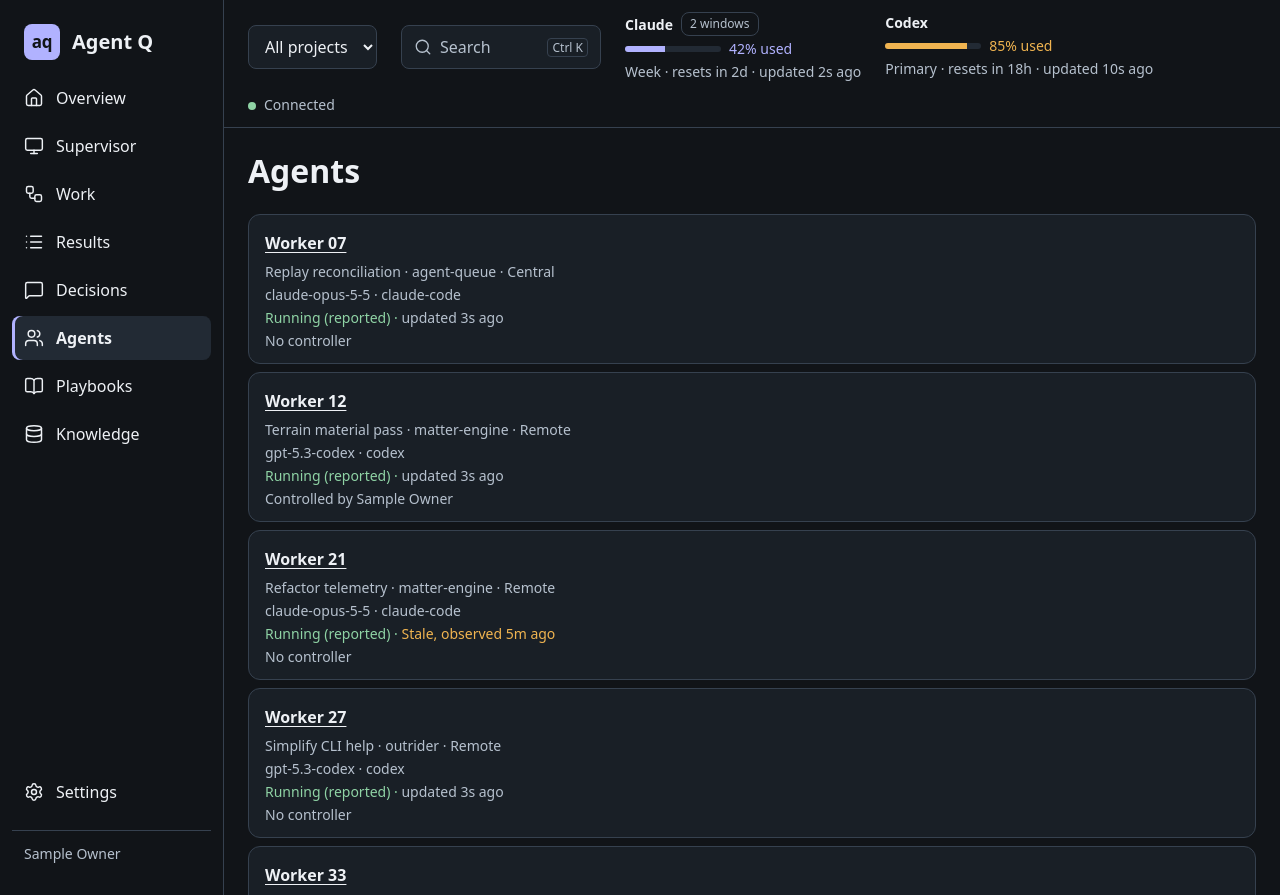
Test case: opening a session shows its metadata and an honest terminal placeholder
Click the link "Worker 07" at (306, 243), box left=265, top=227, right=346, bottom=259
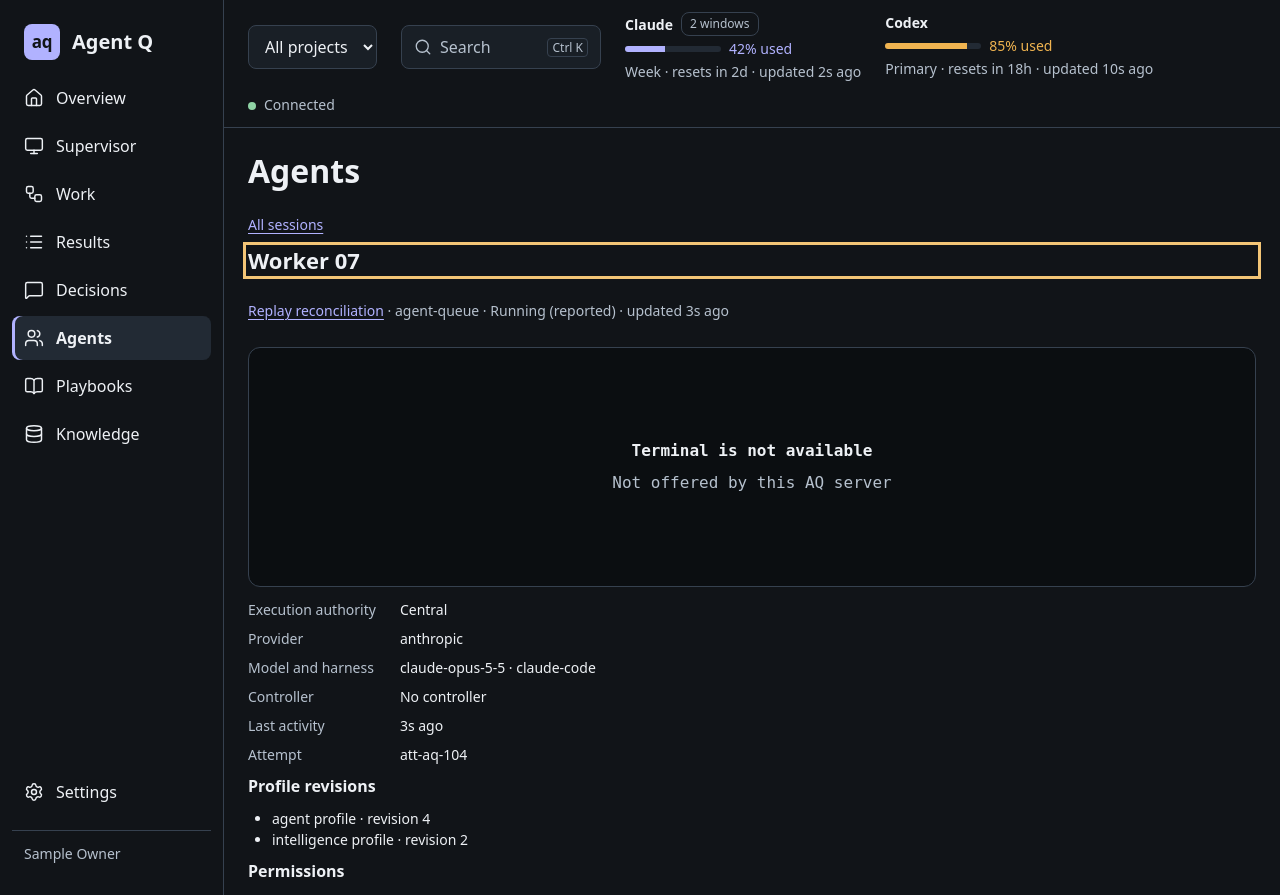
Expected: the text "Terminal is not available" is shown, left=612, top=439, right=892, bottom=463
Expected: the text "Not offered by this AQ server" is shown, left=612, top=471, right=892, bottom=495
Expected: the list named "Profile revisions" shows "agent profile · revision 4", left=272, top=809, right=468, bottom=849
